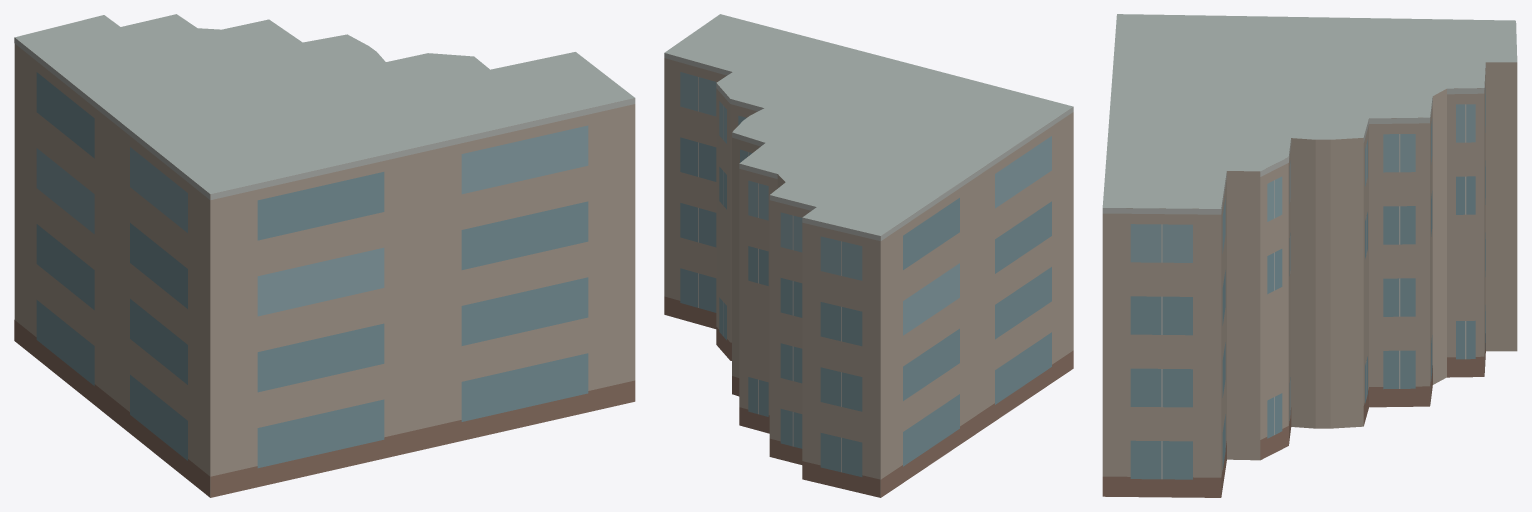
Rendered from survey-upis-32624982.glb.
3 renders of one model, left to right at view 1: azimuth 30°, elevation 25°; view 2: azimuth 150°, elevation 25°; view 3: azimuth 270°, elevation 25°, orthographic. The views are drawn at different scales.
Parts seen in each view (by area): view 1: survey-upis-32624982.tmp; view 2: survey-upis-32624982.tmp; view 3: survey-upis-32624982.tmp.
Boxes of the visible parts, box(x1,y1,x2,y2) form: survey-upis-32624982.tmp: box(14, 14, 635, 497); survey-upis-32624982.tmp: box(664, 14, 1073, 497); survey-upis-32624982.tmp: box(1102, 14, 1517, 497).
Bounding box in the file's own units: 17.89 × 12.35 × 16.08.
